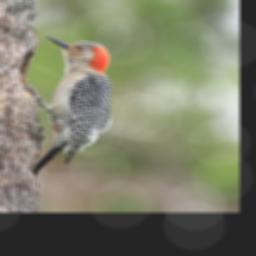Woodpecker: (27, 32, 121, 185)
